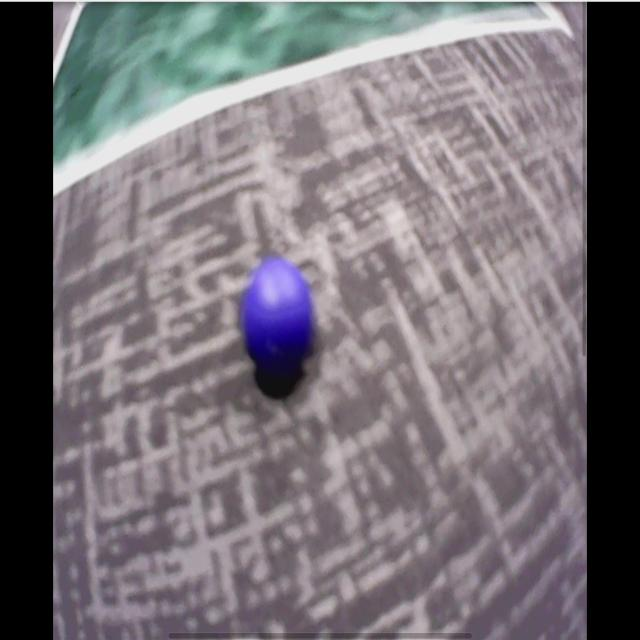ball: (244, 263, 312, 369)
